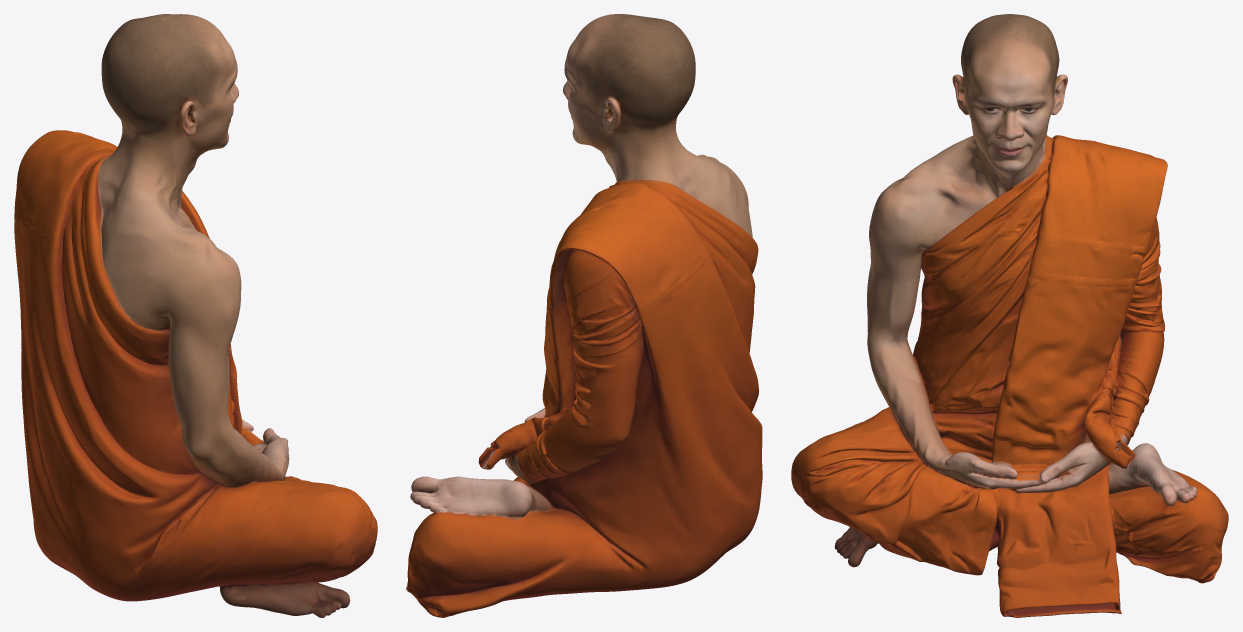
File: monk6.glb
The picture shows the model from 3 angles, left to right: view 1: azimuth 30°, elevation 25°; view 2: azimuth 150°, elevation 25°; view 3: azimuth 270°, elevation 25°; orthographic projection. The views are drawn at different scales.
Visible parts, largest first — view 1: tripo_node_7ed93aa9-706e-4da7-b1b4-51e9216e5c86; view 2: tripo_node_7ed93aa9-706e-4da7-b1b4-51e9216e5c86; view 3: tripo_node_7ed93aa9-706e-4da7-b1b4-51e9216e5c86.
Boxes of the visible parts, x1,y1,x2,y2 form: tripo_node_7ed93aa9-706e-4da7-b1b4-51e9216e5c86: (14, 14, 377, 617); tripo_node_7ed93aa9-706e-4da7-b1b4-51e9216e5c86: (406, 14, 762, 617); tripo_node_7ed93aa9-706e-4da7-b1b4-51e9216e5c86: (791, 14, 1228, 617).
Bounding box in the file's own units: 0.4949 × 0.98 × 0.7414.
Materials: 1 (1 with a texture image).
